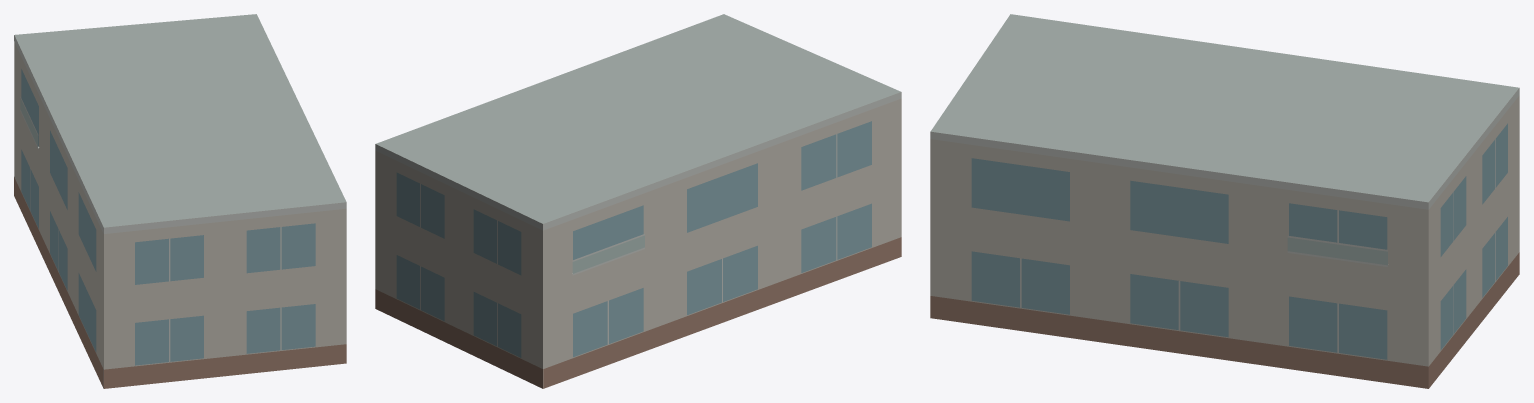
File: survey-upis-32527425.glb
3 views of the same model, side by side, from view 1: azimuth 30°, elevation 25°; view 2: azimuth 150°, elevation 25°; view 3: azimuth 270°, elevation 25° (orthographic). The views are drawn at different scales.
Parts seen in each view (by area): view 1: survey-upis-32527425.tmp; view 2: survey-upis-32527425.tmp; view 3: survey-upis-32527425.tmp.
Part boxes in pixels (x1=…): survey-upis-32527425.tmp: x1=14, y1=14, x2=346, y2=388; survey-upis-32527425.tmp: x1=375, y1=14, x2=901, y2=388; survey-upis-32527425.tmp: x1=930, y1=14, x2=1519, y2=388.
Size of the model in its own units: 13.23 by 6.1 by 17.48.
